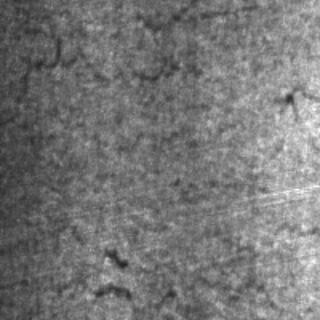crazing: (3, 102, 284, 194), (74, 231, 290, 317), (58, 0, 258, 80), (2, 3, 82, 97)
